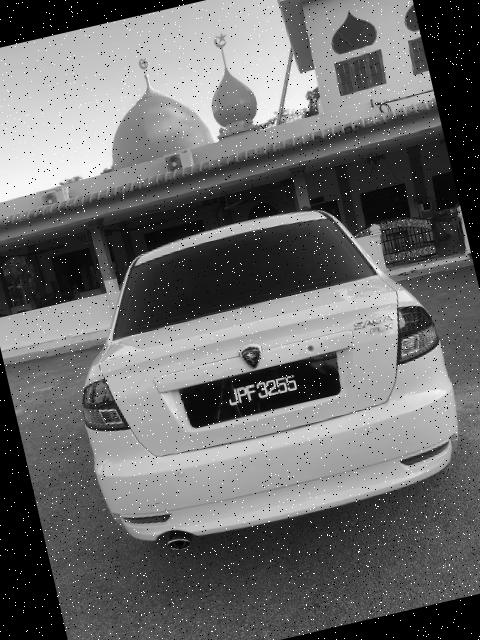License_Plate: (191, 361, 324, 421)
car: (50, 182, 479, 569)
